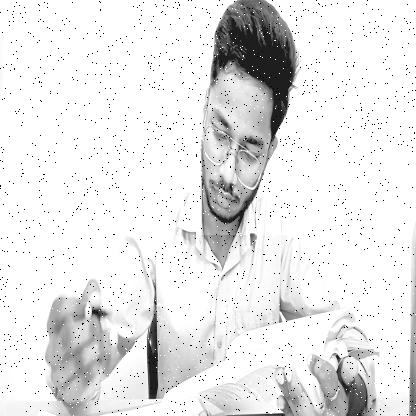Distracted: (196, 0, 300, 235)
